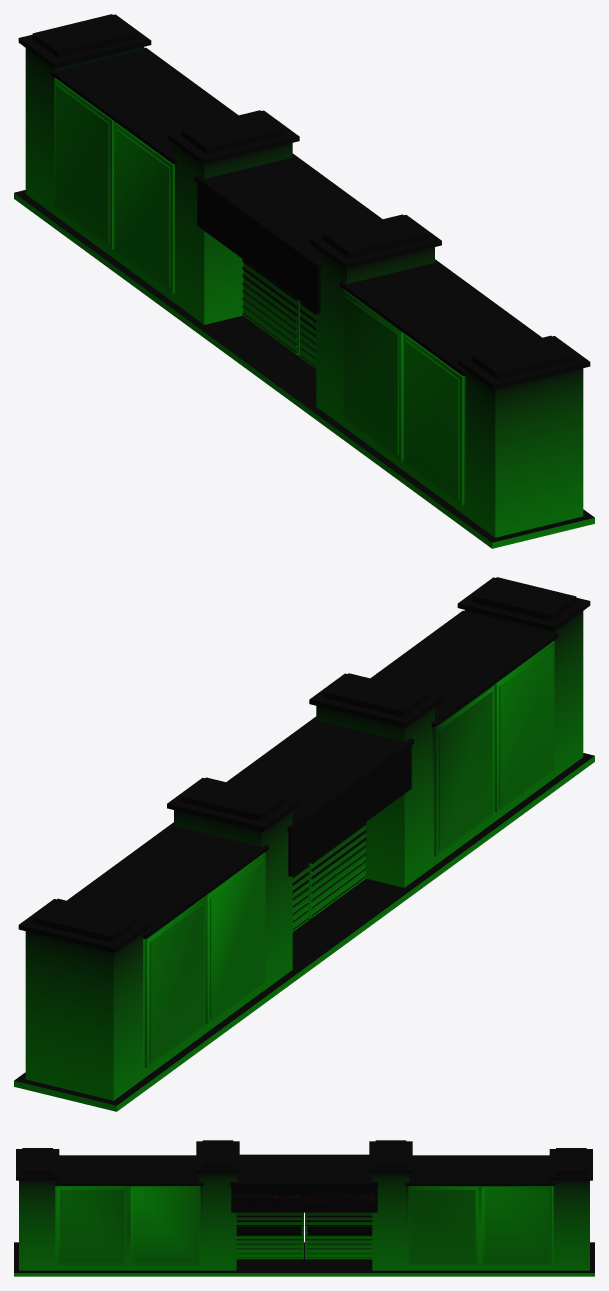
File: d_mediumgate.glb
The picture shows the model from 3 angles, top to bottom: view 1: azimuth 30°, elevation 25°; view 2: azimuth 150°, elevation 25°; view 3: azimuth 270°, elevation 25°; orthographic projection. The views are drawn at different scales.
Parts seen in each view (by area): view 1: lod0, door_l, door_r; view 2: lod0, door_r, door_l; view 3: lod0, door_l, door_r.
Part boxes in pixels (box(x1,y1,x2,y2)): lod0: box(14, 14, 594, 548); door_l: box(242, 259, 299, 355); door_r: box(299, 301, 316, 368); lod0: box(14, 577, 594, 1111); door_r: box(309, 822, 366, 918); door_l: box(292, 864, 309, 931); lod0: box(14, 1140, 594, 1276); door_l: box(305, 1212, 372, 1259); door_r: box(236, 1212, 303, 1259).
Size of what is drawn, in the model's own units: 7 by 11.72 by 56.4.
